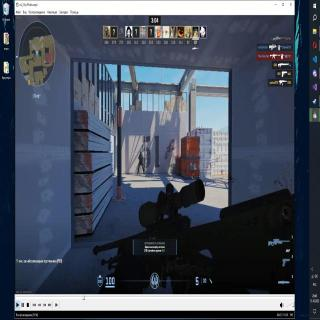CT-Body: (137, 151, 144, 175)
CT-Head: (139, 150, 143, 157)
